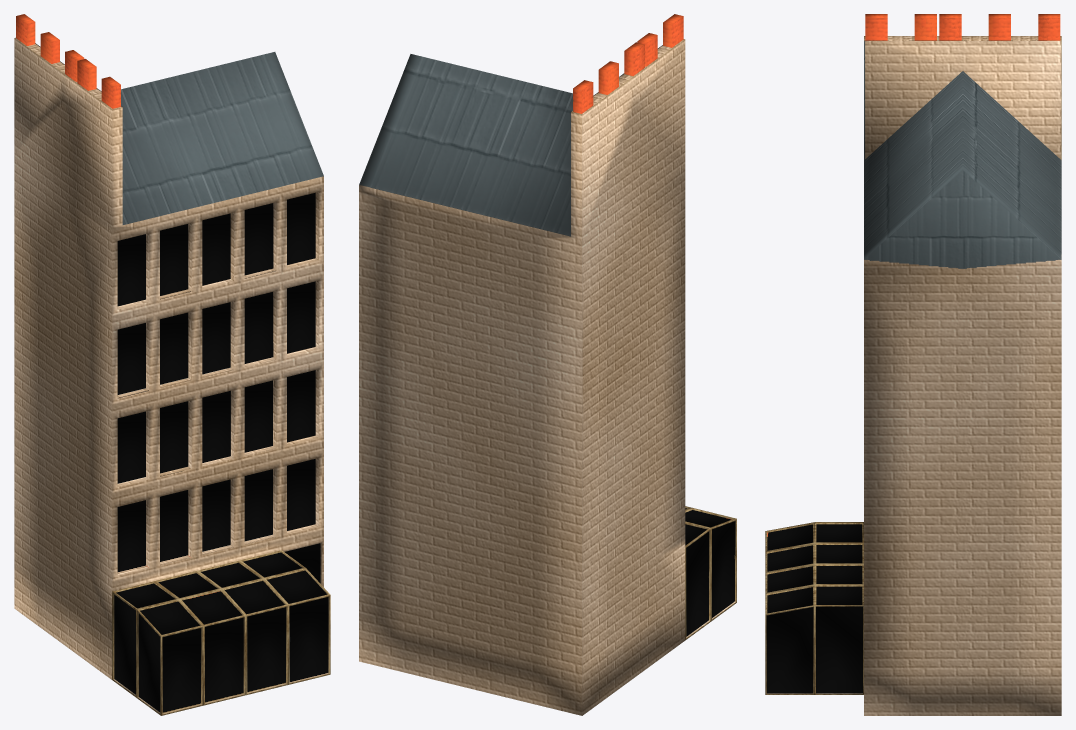
The model's file is building_side_04.obj.
3 views of the same model, side by side, from view 1: azimuth 30°, elevation 25°; view 2: azimuth 150°, elevation 25°; view 3: azimuth 270°, elevation 25° (orthographic). The views are drawn at different scales.
Parts seen in each view (by area): view 1: Cube4; view 2: Cube4; view 3: Cube4.
Part boxes in pixels (x1,y1,x2,y2): Cube4: [14, 14, 330, 715]; Cube4: [359, 14, 736, 715]; Cube4: [765, 14, 1061, 715].
Bounding box in the file's own units: 5 × 13.37 × 6.
Materials: 1 (1 with a texture image).
